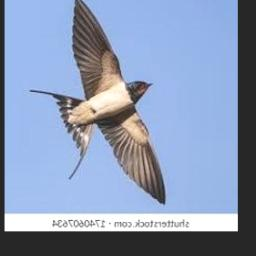Swallow: (29, 0, 166, 206)
